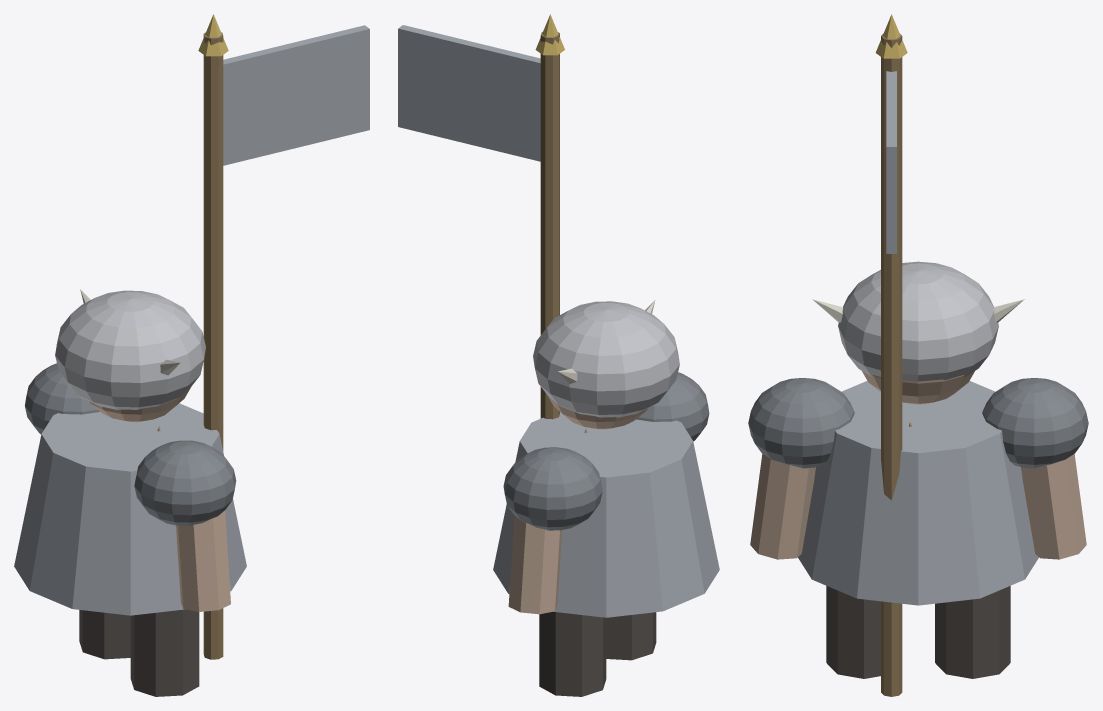
File: hero_brakkar_4.glb
3 renders of one model, left to right at view 1: azimuth 30°, elevation 25°; view 2: azimuth 150°, elevation 25°; view 3: azimuth 270°, elevation 25°, orthographic. The views are drawn at different scales.
Parts seen in each view (by area): view 1: figurka; view 2: figurka; view 3: figurka.
Part boxes in pixels (<box>): figurka: <box>14,14,369,696</box>; figurka: <box>398,14,719,696</box>; figurka: <box>748,14,1088,696</box>.
Size of the model in its own units: 0.7395 by 1.4 by 0.6345.
